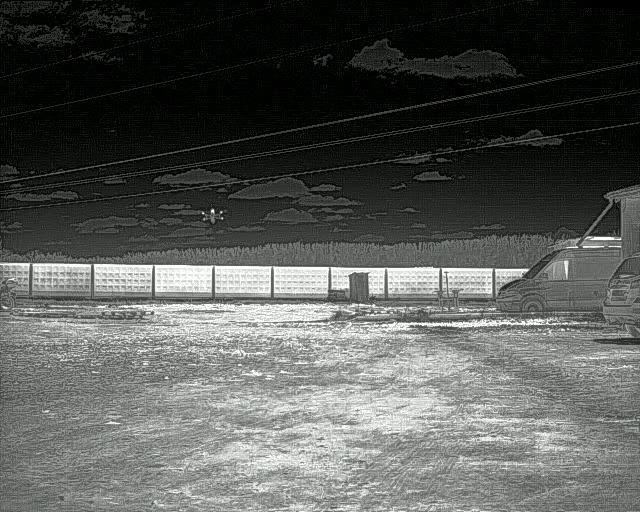drone-thermal: (200, 206, 227, 224)
